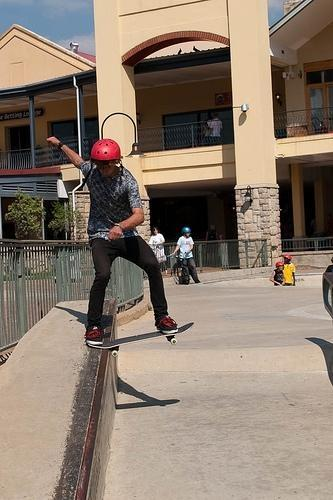bicycle: (167, 252, 191, 285)
car: (322, 256, 333, 320)
